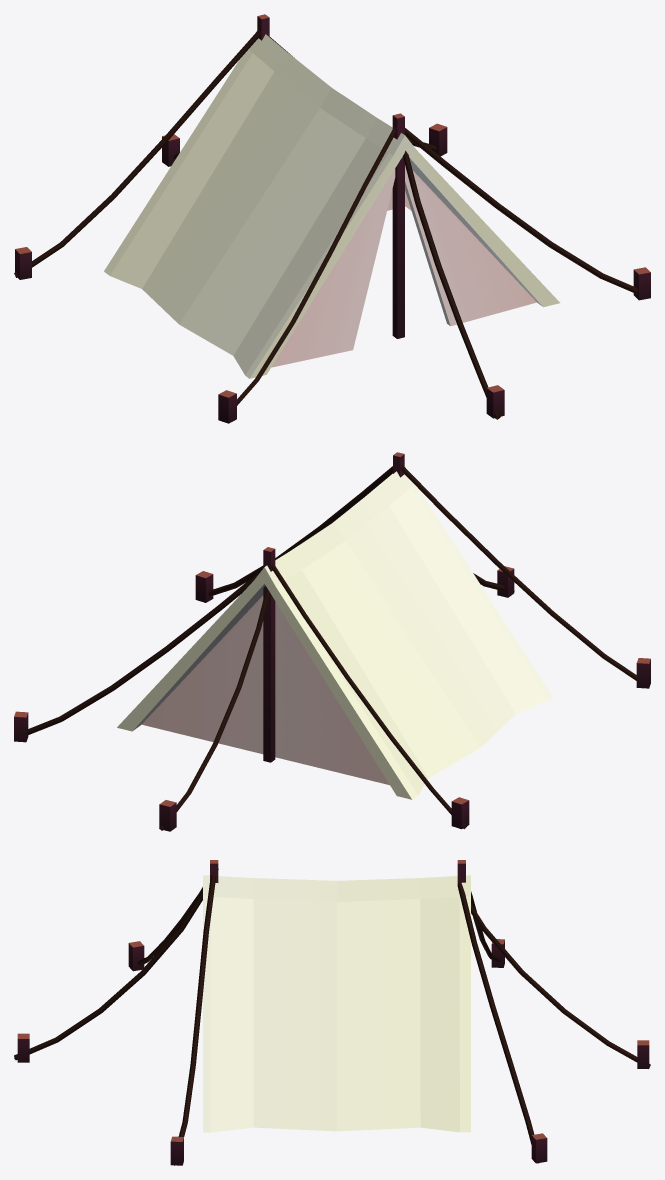
The model's file is building_tent.fbx.
The picture shows the model from 3 angles, top to bottom: view 1: azimuth 30°, elevation 25°; view 2: azimuth 150°, elevation 25°; view 3: azimuth 270°, elevation 25°; orthographic projection. The views are drawn at different scales.
Visible parts, largest first — view 1: Tent, TentWood, TentRope.003, TentRope.005, TentRope, TentRope.001; view 2: Tent, TentWood.001, TentRope.001, TentRope.004, TentRope.003, TentRope.002, TentRope.005; view 3: Tent, TentRope.005, TentRope.004, TentRope, TentRope.002, Karabiner.002.
Boxes of the visible parts, bbox=[...] form: Tent: bbox=[104, 30, 559, 378]; TentWood: bbox=[392, 113, 404, 338]; TentRope.003: bbox=[14, 29, 260, 277]; TentRope.005: bbox=[405, 128, 637, 293]; TentRope: bbox=[403, 150, 500, 419]; TentRope.001: bbox=[237, 126, 396, 405]; Tent: bbox=[117, 465, 552, 799]; TentWood.001: bbox=[263, 547, 275, 762]; TentRope.001: bbox=[395, 463, 636, 680]; TentRope.004: bbox=[27, 569, 262, 735]; TentRope.003: bbox=[271, 562, 466, 829]; TentRope.002: bbox=[159, 588, 269, 830]; TentRope.005: bbox=[208, 466, 392, 596]; Tent: bbox=[203, 875, 470, 1132]; TentRope.005: bbox=[174, 873, 216, 1165]; TentRope.004: bbox=[457, 882, 538, 1163]; TentRope: bbox=[14, 890, 202, 1060]; TentRope.002: bbox=[471, 904, 650, 1067]; Karabiner.002: bbox=[531, 1133, 547, 1163].
Size of the model in its own units: 507 by 235 by 669.
